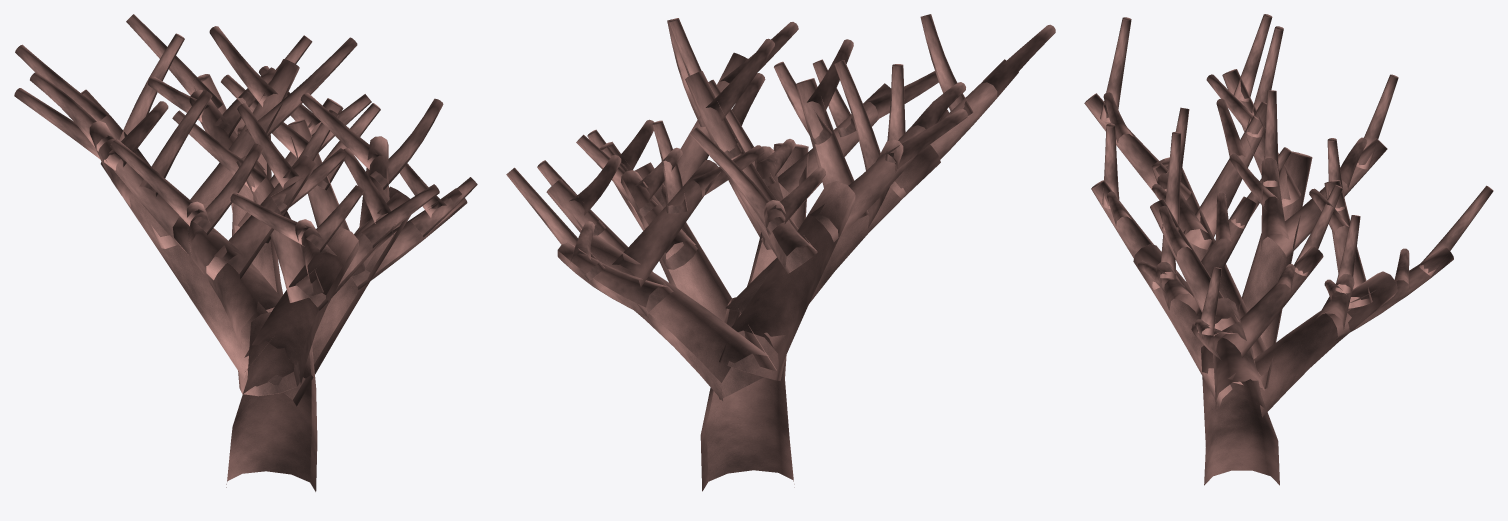
File: coral_staghorn_a.glb
The picture shows the model from 3 angles, left to right: view 1: azimuth 30°, elevation 25°; view 2: azimuth 150°, elevation 25°; view 3: azimuth 270°, elevation 25°; orthographic projection. The views are drawn at different scales.
Visible parts, largest first — view 1: world; view 2: world; view 3: world.
Part boxes in pixels (box(x1,y1,x2,y2)): world: box(14, 14, 477, 491); world: box(506, 14, 1055, 491); world: box(1084, 14, 1493, 485).
Bounding box in the file's own units: 1.26 × 1.34 × 1.28.
1 material, 1 textured.
